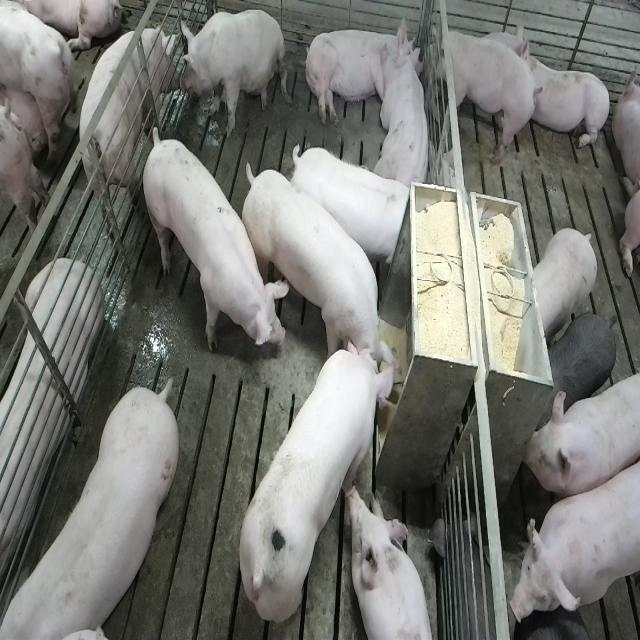Feeding: (236, 338, 400, 624), (245, 163, 404, 384)
Lateral_lying: (303, 15, 419, 128)
Sitting: (181, 8, 285, 138)
Standing: (5, 376, 185, 635), (139, 121, 282, 361), (508, 442, 638, 630), (80, 27, 182, 232), (288, 144, 416, 276), (430, 26, 537, 168), (523, 368, 637, 498), (0, 0, 72, 154), (545, 308, 617, 421), (530, 227, 598, 344), (509, 609, 612, 640)
Sternal_lying: (0, 260, 101, 600), (348, 485, 437, 640), (523, 44, 612, 154), (376, 26, 434, 194), (481, 20, 532, 65)
